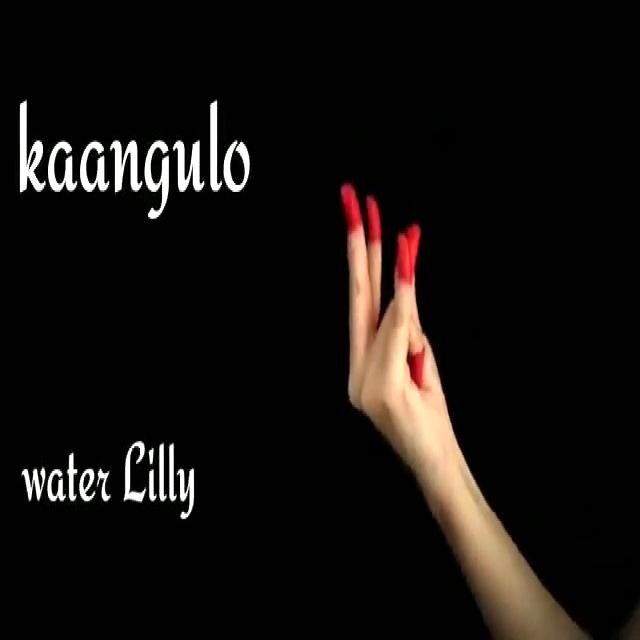Kangula: (310, 146, 466, 497)
text: (8, 75, 255, 229), (16, 431, 201, 524)
